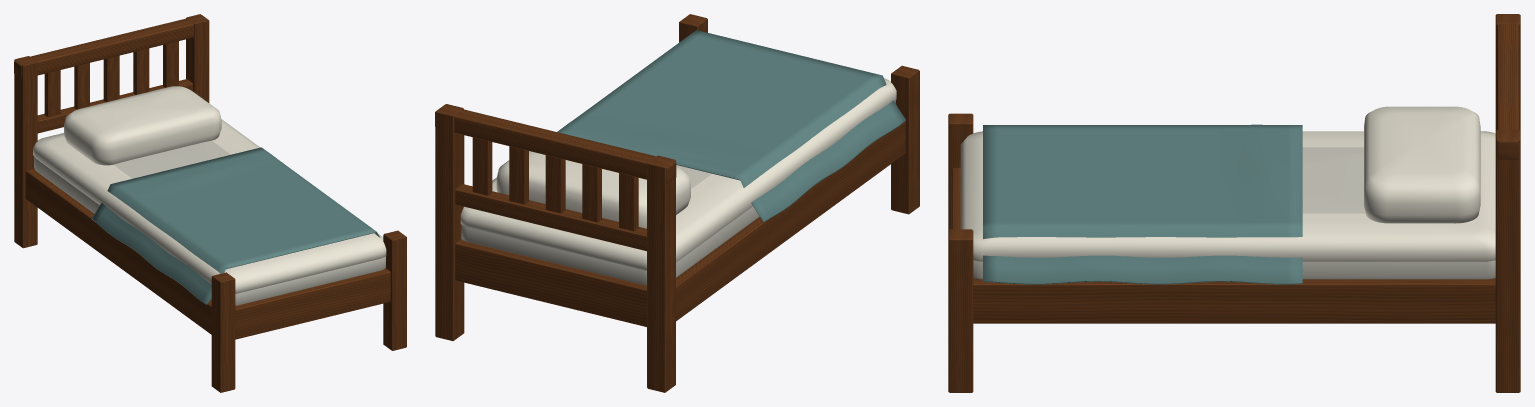
The model's file is S033_single_bed_rebuilt.glb.
3 renders of one model, left to right at view 1: azimuth 30°, elevation 25°; view 2: azimuth 150°, elevation 25°; view 3: azimuth 270°, elevation 25°, orthographic. The views are drawn at different scales.
Parts seen in each view (by area): view 1: Bed_golden_oak_frame, Bed_dusty_teal_woven_blanket, Bed_warm_white_cotton_sheet, Bed_mattress_ticking; view 2: Bed_golden_oak_frame, Bed_dusty_teal_woven_blanket, Bed_warm_white_cotton_sheet, Bed_mattress_ticking; view 3: Bed_dusty_teal_woven_blanket, Bed_golden_oak_frame, Bed_warm_white_cotton_sheet, Bed_mattress_ticking.
Part boxes in pixels (x1=…): Bed_golden_oak_frame: x1=14, y1=14, x2=406, y2=392; Bed_dusty_teal_woven_blanket: x1=91, y1=147, x2=380, y2=304; Bed_warm_white_cotton_sheet: x1=33, y1=86, x2=386, y2=293; Bed_mattress_ticking: x1=34, y1=140, x2=385, y2=305; Bed_golden_oak_frame: x1=435, y1=14, x2=919, y2=392; Bed_dusty_teal_woven_blanket: x1=557, y1=30, x2=905, y2=222; Bed_warm_white_cotton_sheet: x1=460, y1=78, x2=896, y2=270; Bed_mattress_ticking: x1=461, y1=101, x2=895, y2=285; Bed_dusty_teal_woven_blanket: x1=983, y1=124, x2=1302, y2=284; Bed_golden_oak_frame: x1=948, y1=14, x2=1520, y2=392; Bed_warm_white_cotton_sheet: x1=960, y1=106, x2=1495, y2=261; Bed_mattress_ticking: x1=973, y1=147, x2=1495, y2=279.
Size of the model in its own units: 1.1 by 1.02 by 2.09.
Materials: 6 (2 with a texture image).
